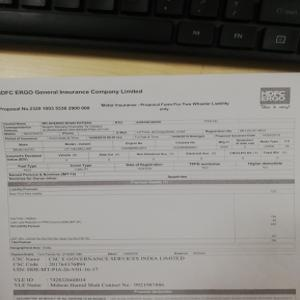image: (260, 86, 292, 106)
table: (5, 182, 296, 259), (2, 119, 296, 183)
text: (10, 257, 188, 288), (1, 88, 149, 97)
